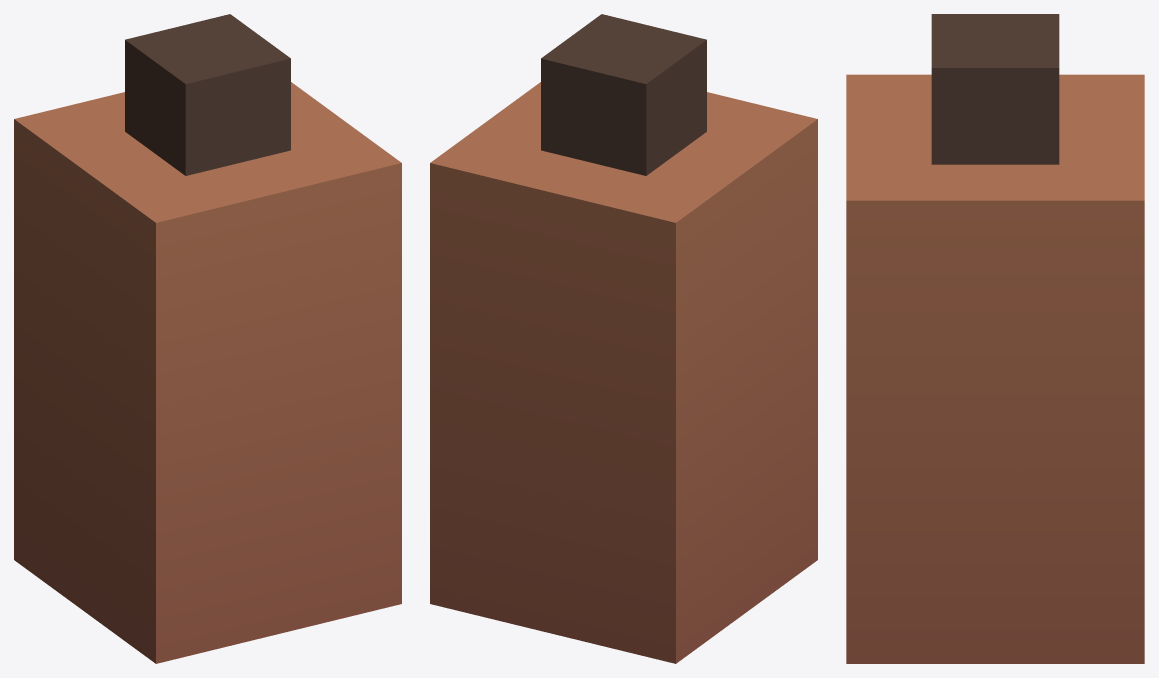
Rendered from low-detail-building-d.obj.
The picture shows the model from 3 angles, left to right: view 1: azimuth 30°, elevation 25°; view 2: azimuth 150°, elevation 25°; view 3: azimuth 270°, elevation 25°; orthographic projection. The views are drawn at different scales.
Parts seen in each view (by area): view 1: building-d; view 2: building-d; view 3: building-d.
Part boxes in pixels (bbox=[...]): building-d: bbox=[14, 14, 401, 663]; building-d: bbox=[430, 14, 817, 663]; building-d: bbox=[846, 14, 1144, 663].
Size of the model in its own units: 0.7 by 1.45 by 0.7.
